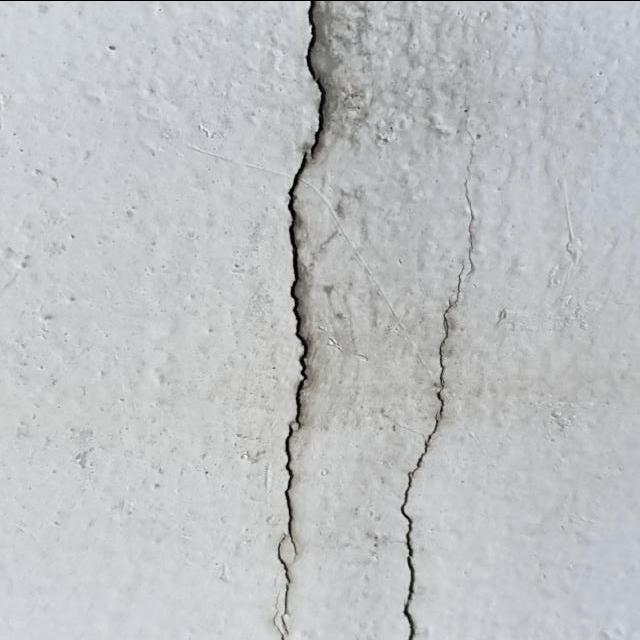SurfaceCrack: (358, 0, 499, 639), (256, 1, 359, 640)
